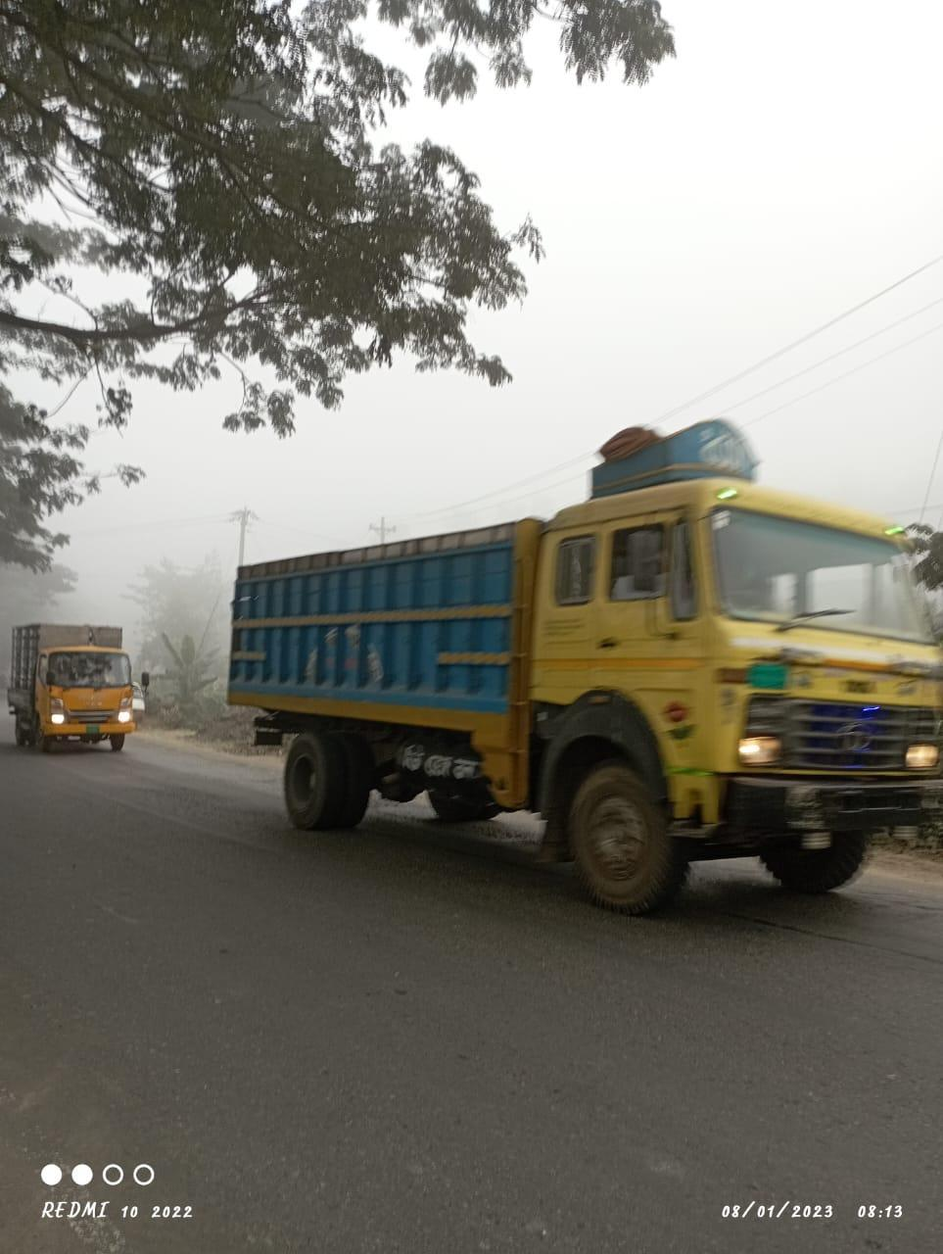Truck: (198, 416, 937, 930), (6, 616, 165, 755)
